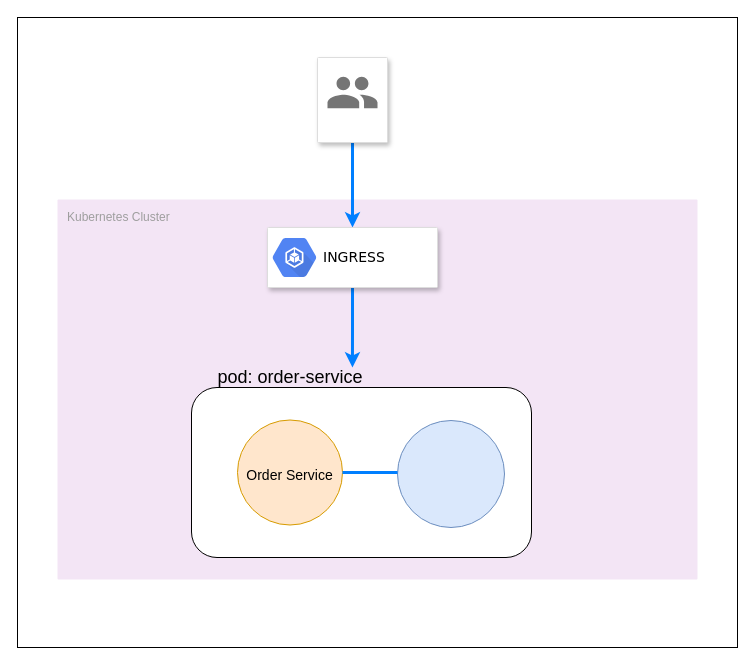
Image size: 755x665. Some labels were removed from this diagram. Here are the shapes that lost their labels. From the top down, the centre of each, then its label:
At pixel 353 101: "Users".
At pixel 450 474: "Oracle DB".
